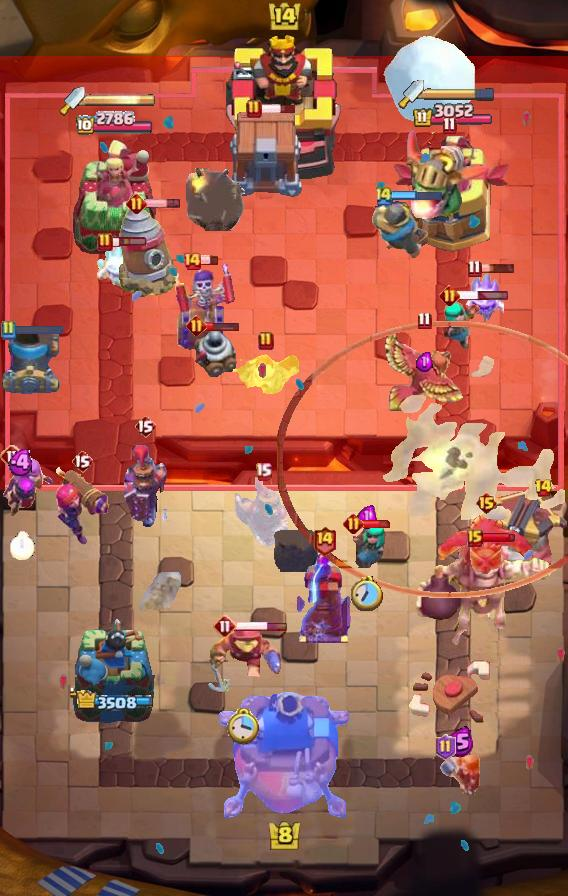baby-dragon: (187, 168, 246, 231), (274, 530, 318, 572)
bar: (391, 132, 515, 256), (70, 138, 158, 256)
bat: (94, 241, 142, 289)
bomb: (227, 112, 305, 198)
electro-giant: (412, 535, 554, 649)
electro-spirit: (446, 726, 474, 758), (8, 448, 36, 476), (357, 504, 377, 529), (415, 351, 433, 373)
elixir: (227, 708, 260, 746), (351, 576, 383, 611), (9, 532, 34, 560)
elixir-golem-big: (235, 477, 291, 557), (119, 443, 171, 529)
emote: (391, 189, 443, 203), (12, 324, 64, 336), (234, 621, 288, 632), (457, 290, 509, 301), (260, 103, 297, 115), (111, 236, 148, 248), (480, 262, 517, 274), (204, 320, 240, 332), (480, 532, 516, 544), (143, 199, 180, 210), (361, 519, 393, 529), (200, 255, 219, 266)
fireball: (204, 623, 282, 697)
firecracker: (370, 197, 428, 258)
fisherman: (139, 572, 181, 618)
goblin-drill: (191, 323, 237, 377)
golden-knight: (383, 324, 465, 412)
hog-rider: (438, 752, 482, 802)
ice-spirit-evolution-symbol: (294, 549, 354, 645)
king-tower: (219, 692, 349, 826), (226, 33, 342, 181)
king-tower-bar: (424, 87, 496, 101), (85, 93, 155, 107)
lava-pup: (480, 490, 568, 572)
magic-archer: (118, 205, 178, 299)
mega-minion: (52, 462, 112, 548)
mini-pekka: (230, 350, 302, 398)
mirror: (460, 269, 504, 323)
mother-witch: (436, 504, 536, 576)
musketeer: (0, 330, 60, 394)
night-witch: (405, 126, 493, 222)
queen-tower: (70, 616, 158, 731)
rascal-girl: (0, 456, 54, 518)
royal-ghost: (277, 322, 568, 599)
selected: (412, 103, 494, 129), (74, 111, 154, 137), (75, 690, 153, 712)
skeleton-king-bar: (174, 261, 236, 353)
text: (312, 525, 337, 556), (0, 444, 24, 468), (213, 614, 237, 638), (475, 491, 498, 515), (435, 734, 456, 760), (134, 414, 156, 438), (71, 449, 93, 473), (439, 285, 460, 307), (126, 194, 147, 215), (185, 315, 206, 336), (343, 513, 364, 534), (374, 185, 394, 207), (182, 251, 202, 271), (535, 478, 554, 498), (256, 463, 273, 482), (246, 99, 262, 119), (97, 232, 113, 252), (0, 320, 16, 340), (258, 331, 274, 351), (467, 529, 483, 547), (442, 117, 457, 135), (467, 259, 481, 277), (417, 311, 431, 329)
wall-breaker: (383, 34, 477, 126)
witch: (441, 296, 481, 350), (346, 520, 388, 568)
